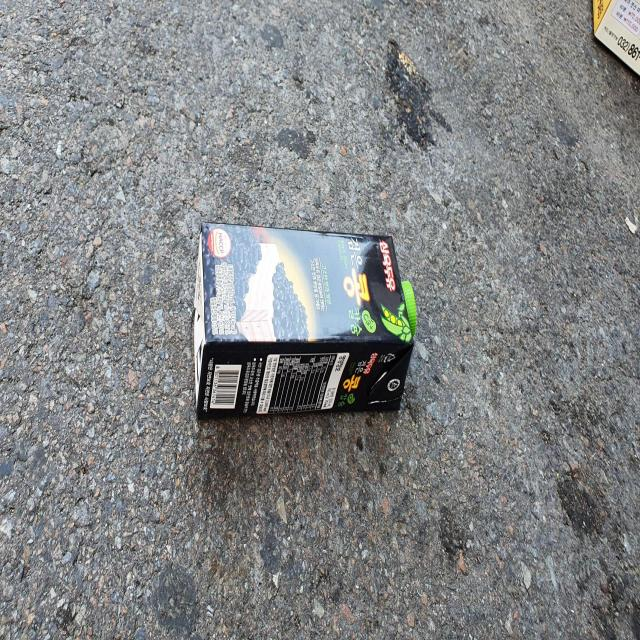paperpack: (193, 222, 417, 417)
